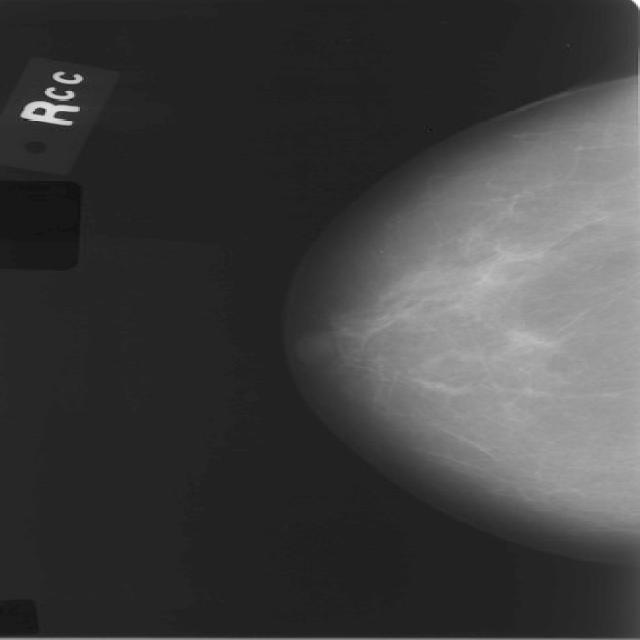tumour: (498, 328, 556, 356)
